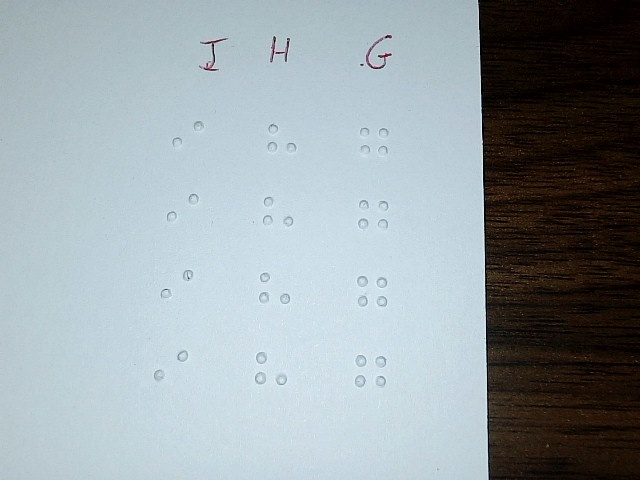G: (353, 345, 390, 404), (358, 116, 390, 172), (358, 190, 390, 246), (356, 265, 388, 321)
H: (253, 342, 290, 401), (266, 114, 298, 170), (262, 188, 294, 244), (259, 264, 291, 320)
I: (153, 340, 190, 399), (170, 110, 205, 165), (166, 183, 201, 238), (159, 261, 194, 316)
